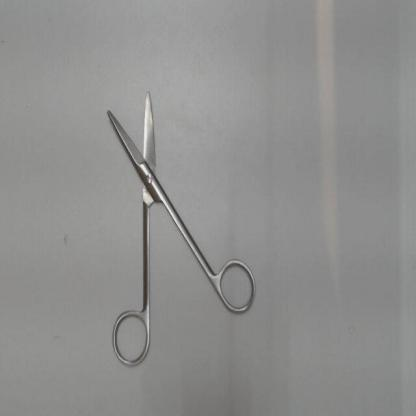Curved Mayo Scissors: (98, 79, 261, 374)
